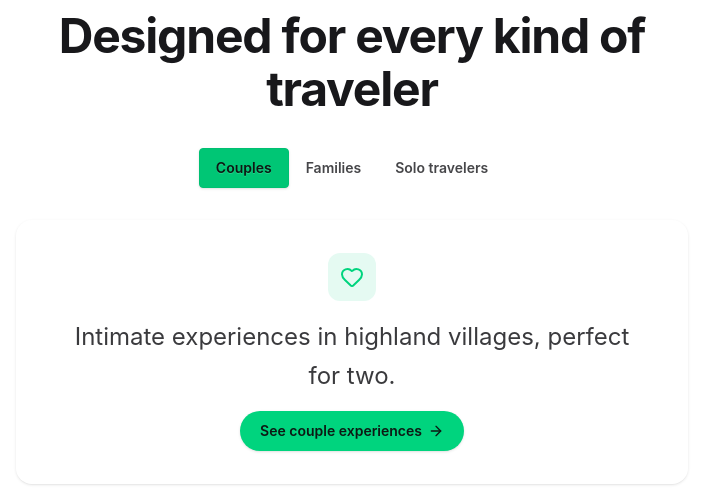
LandingTravelerSegments › switches recommendation when another segment is selected
This screenshot has width=705, height=502.
Click the button "Families" at (333, 168), box [289,148,378,188]
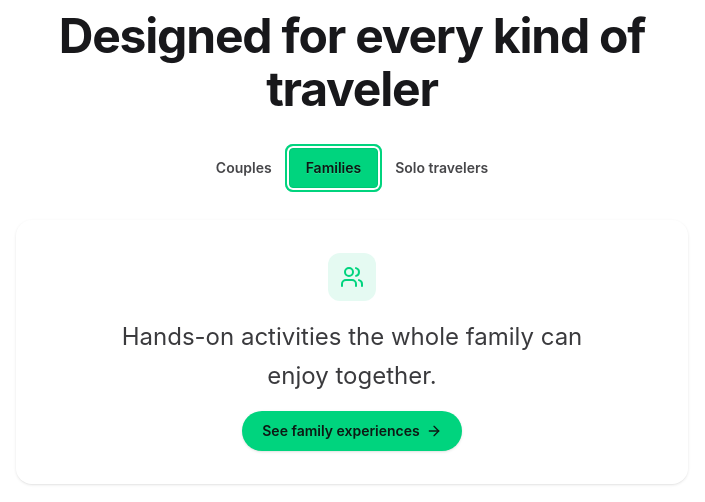
Expected: the text "Hands-on activities the whole family can enjoy together." is shown, [122,322,582,390]
Expected: the text "Intimate experiences in highland villages, perfect for two." is gone
